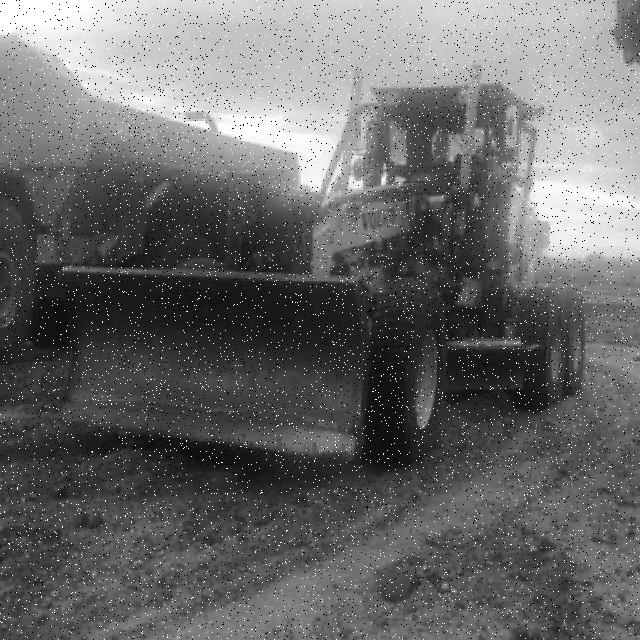Construction Equipment: (60, 64, 586, 470)
